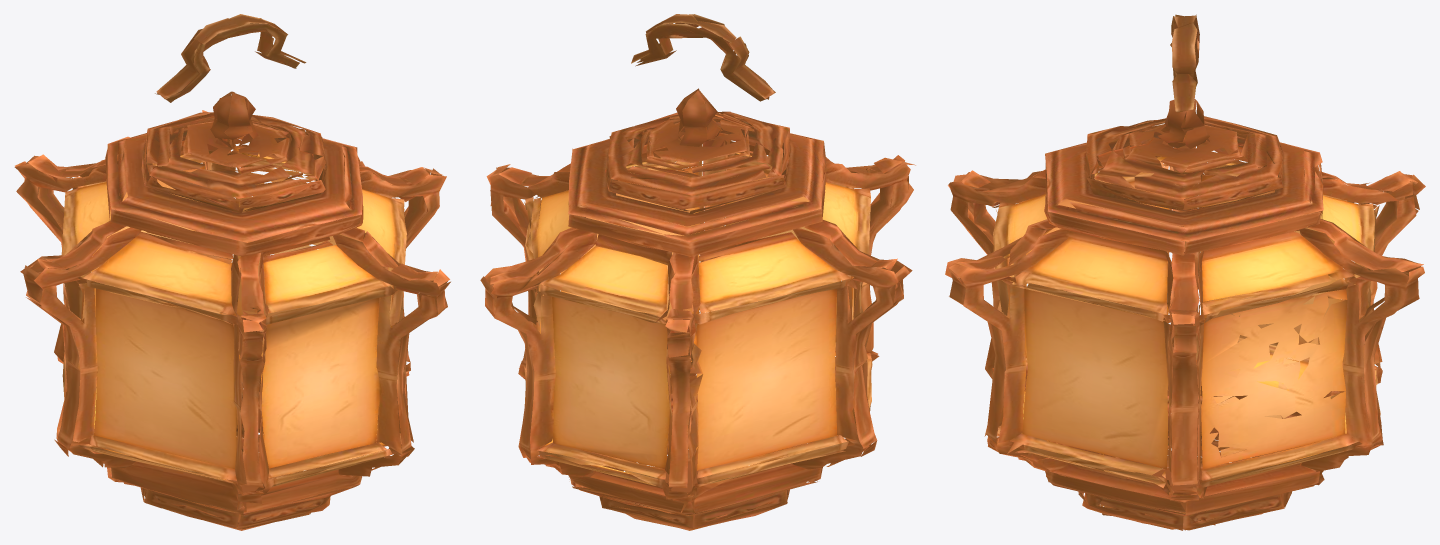
The model's file is furniture_hanging_lamp.glb.
3 renders of one model, left to right at view 1: azimuth 30°, elevation 25°; view 2: azimuth 150°, elevation 25°; view 3: azimuth 270°, elevation 25°, orthographic.
Parts seen in each view (by area): view 1: PROP_HangingLamp; view 2: PROP_HangingLamp; view 3: PROP_HangingLamp.
Part boxes in pixels (box(x1,y1,x2,y2)): PROP_HangingLamp: box(14, 14, 450, 530); PROP_HangingLamp: box(480, 14, 915, 530); PROP_HangingLamp: box(945, 14, 1425, 530).
Size of the model in its own units: 0.5 by 0.545 by 0.5.
Materials: 1 (1 with a texture image).
